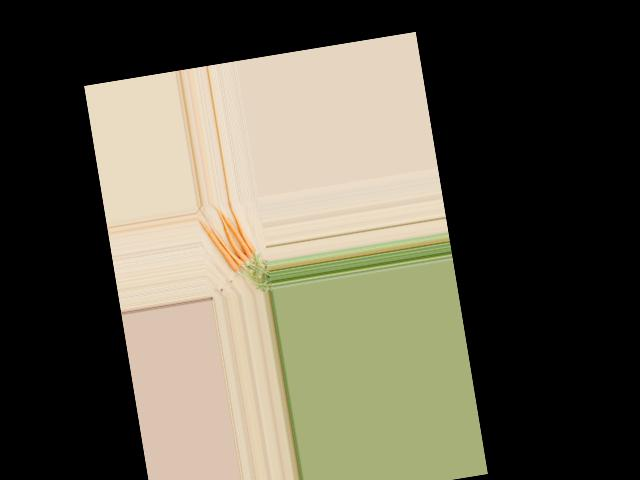carrot: (228, 200, 257, 255)
